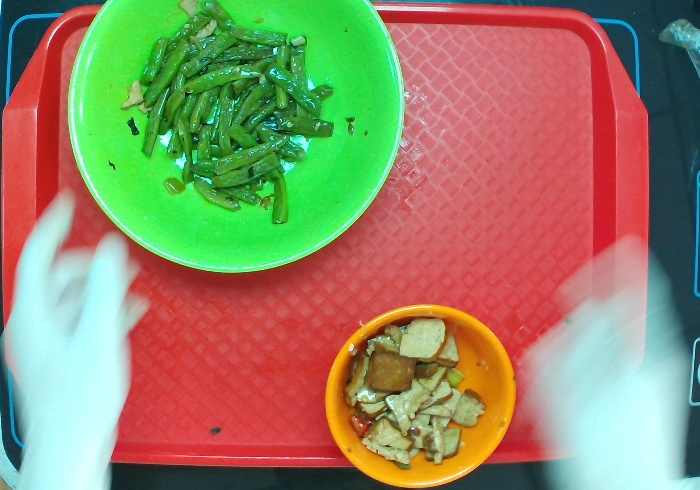YKMZ-Ju_Se_Yuan_Wan: (323, 302, 518, 490)
YKMZ-Lv_Se_Tang_Wan: (66, 1, 407, 277)
